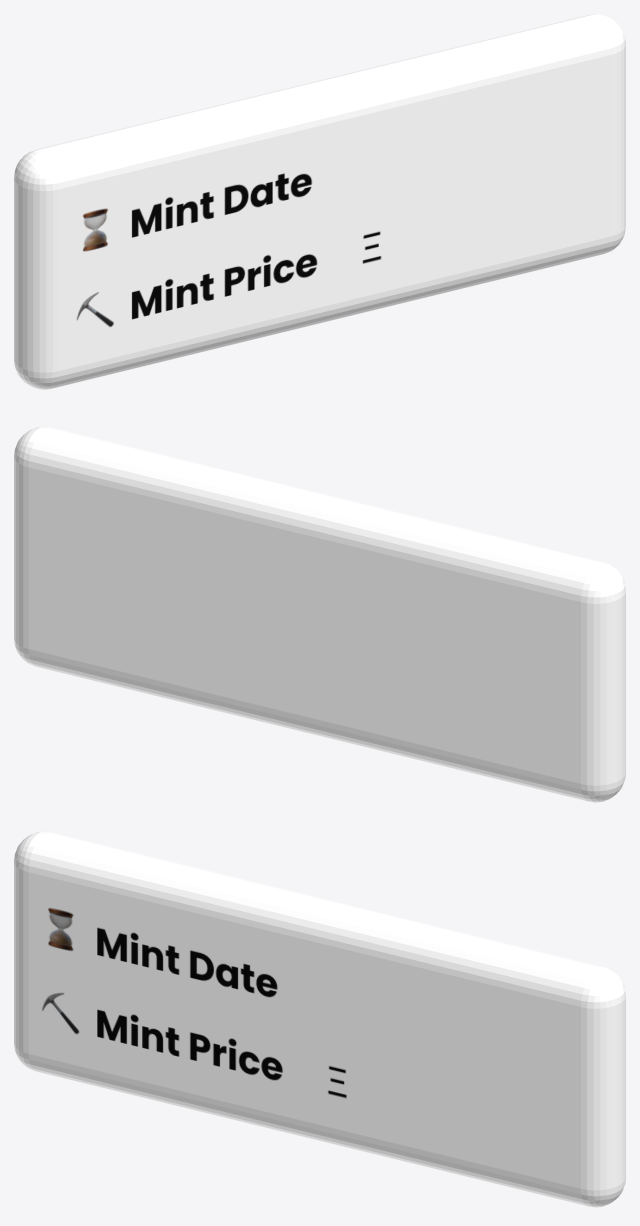
Rendered from aftermintCard.glb.
3 views of the same model, one above another, from view 1: azimuth 30°, elevation 25°; view 2: azimuth 150°, elevation 25°; view 3: azimuth 330°, elevation 25° (orthographic).
Visible parts, largest first — view 1: card, afterMint; view 2: card; view 3: card, afterMint.
Boxes of the visible parts, x1,y1,x2,y2 form: card: (14, 14, 625, 389); afterMint: (77, 173, 381, 326); card: (14, 426, 625, 802); card: (14, 831, 625, 1207); afterMint: (42, 908, 346, 1097).
Size of the model in its own units: 2.27 by 0.8466 by 0.2119.
Materials: 2 (1 with a texture image).
